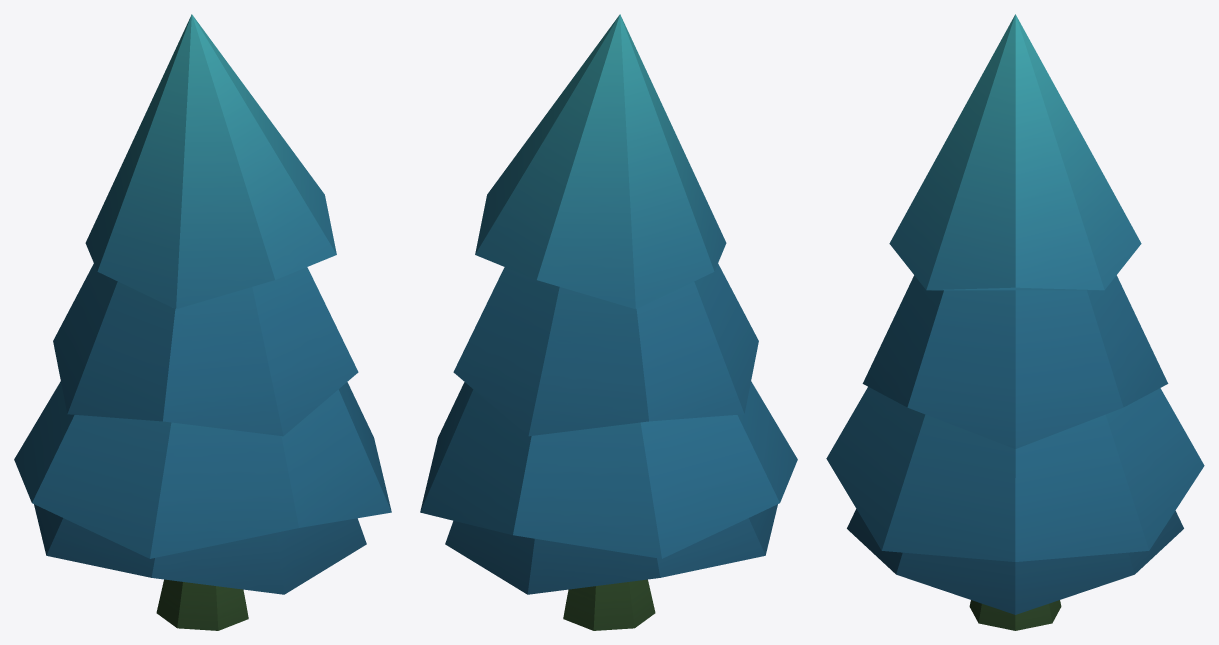
File: tree_2.fbx
3 renders of one model, left to right at view 1: azimuth 30°, elevation 25°; view 2: azimuth 150°, elevation 25°; view 3: azimuth 270°, elevation 25°, orthographic.
Visible parts, largest first — view 1: tree_2; view 2: tree_2; view 3: tree_2.
Boxes of the visible parts, x1=… form: tree_2: x1=14, y1=14, x2=391, y2=630; tree_2: x1=420, y1=14, x2=797, y2=630; tree_2: x1=826, y1=14, x2=1204, y2=630.
Bounding box in the file's own units: 171 × 287 × 166.
